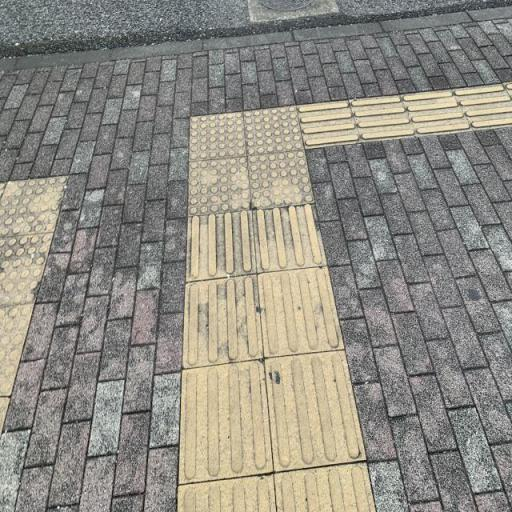dot: (247, 151, 312, 210), (189, 156, 251, 216), (243, 105, 305, 156), (190, 111, 248, 163)
line: (264, 348, 366, 475), (179, 358, 274, 484), (183, 274, 264, 372), (257, 267, 343, 358), (251, 203, 328, 275), (186, 211, 258, 283), (400, 90, 472, 136), (299, 99, 362, 150), (351, 95, 417, 143)
